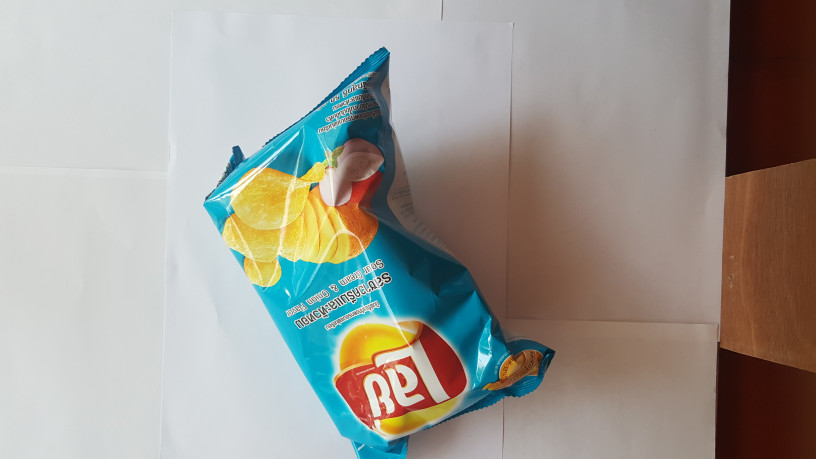lays-onion: (192, 48, 555, 459)
